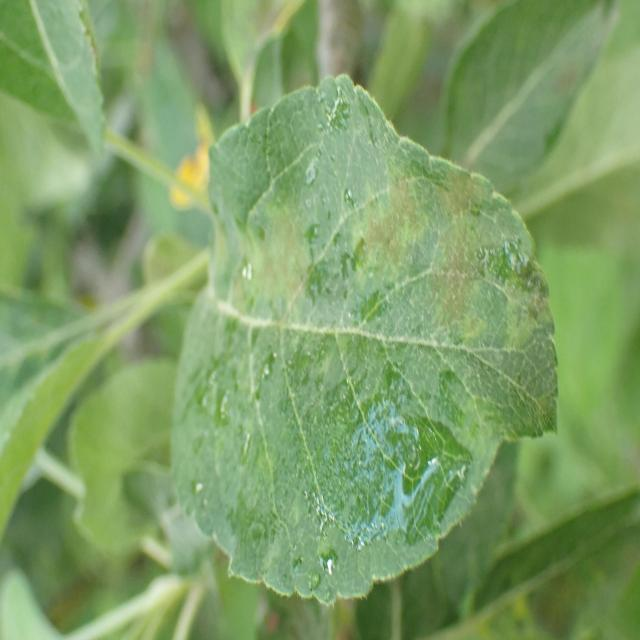scab: (192, 149, 552, 537)
